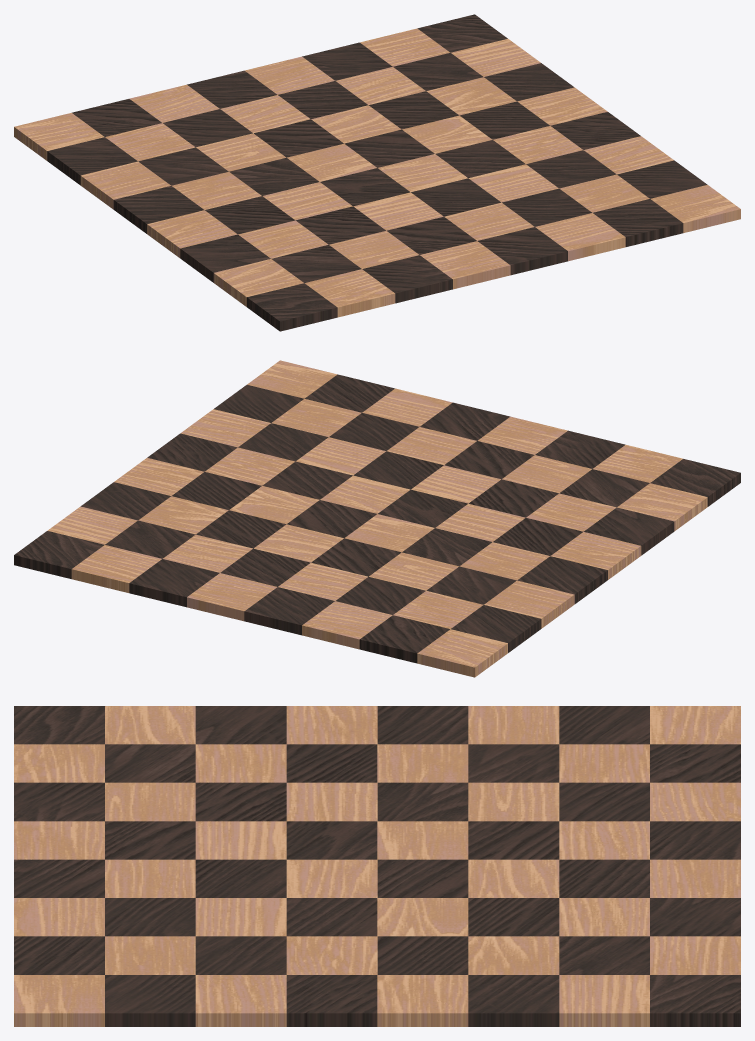
The model's file is chessboard.glb.
3 renders of one model, top to bottom at view 1: azimuth 30°, elevation 25°; view 2: azimuth 150°, elevation 25°; view 3: azimuth 270°, elevation 25°, orthographic. The views are drawn at different scales.
Parts seen in each view (by area): view 1: Board_16; view 2: Board_16; view 3: Board_16.
Part boxes in pixels (x1,y1,x2,y2): Board_16: (14, 14, 740, 331); Board_16: (14, 360, 740, 677); Board_16: (14, 706, 740, 1026).
Size of the model in its own units: 0.4797 by 0.01 by 0.4797.
Materials: 2 (2 with a texture image).
